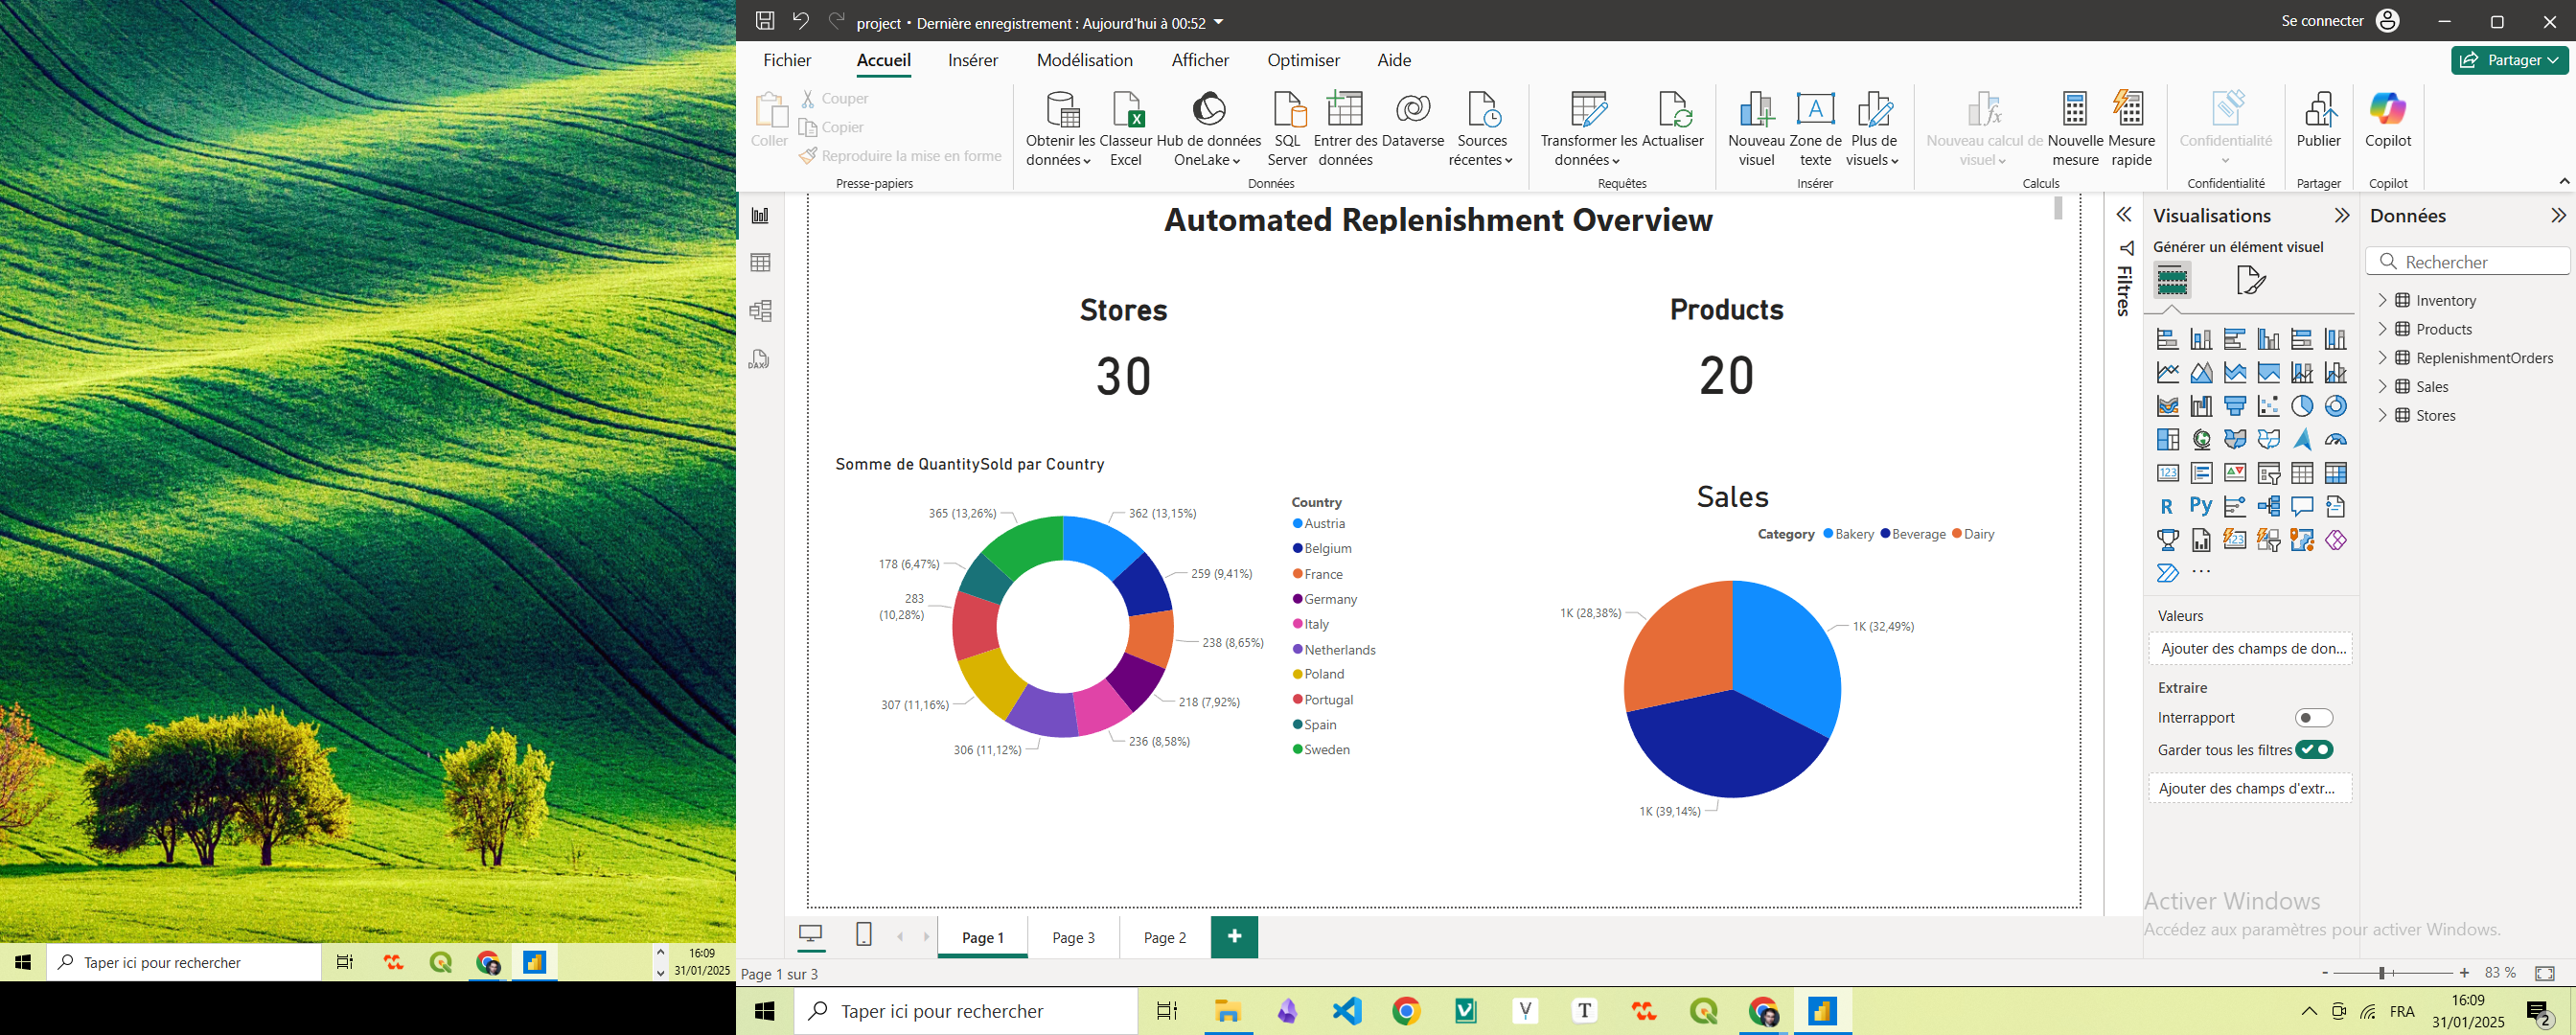

Layout of this report page (visuals, bound fields, positions):
{"tool":"powerbi","page":{"name":"Page 1","canvas":[1280,720],"ordinal":0},"visuals":[{"type":"textbox","box":[10,290,280,280],"z":0},{"type":"textbox","box":[9.7,0,1257.7,47.3],"z":1000},{"type":"card","title":"Stores","fields":{"Values":["CountNonNull(Stores.StoreID)"]},"box":[224.4,101.3,185.8,119.4],"z":2000},{"type":"card","title":"Products","fields":{"Values":["CountNonNull(Products.ProductID)"]},"box":[857.8,101.3,133.9,119.4],"z":3000},{"type":"donutChart","fields":{"Y":["Sum(Sales.QuantitySold)"],"Series":["Stores.Country"]},"box":[21.7,264.2,563.4,329.4],"z":4000},{"type":"pieChart","title":"Sales","fields":{"Series":["Products.Category"],"Y":["Sum(Sales.QuantitySold)"]},"box":[657.5,289.5,546.5,359.5],"z":5000},{"type":"qnaVisual","box":[991.7,101.3,275.8,150],"z":5001}]}

Visuals, with their boxes on the page's 1280x720 design canvas (x1, y1, x2, y2). These are canvas units, not pixel positions in the 2576x1035 screenshot, which may show the page scaled, cropped or inside an application window:
textbox: (left=10, top=290, right=290, bottom=570)
textbox: (left=10, top=0, right=1267, bottom=47)
"Stores" card: (left=224, top=101, right=410, bottom=221)
"Products" card: (left=858, top=101, right=992, bottom=221)
donutChart - Sum(Sales.QuantitySold) x Stores.Country: (left=22, top=264, right=585, bottom=594)
"Sales" pieChart: (left=658, top=290, right=1204, bottom=649)
qnaVisual: (left=992, top=101, right=1268, bottom=251)
